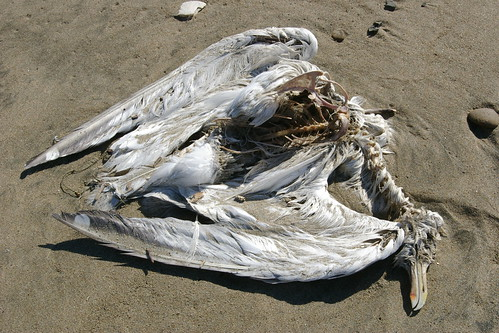animal: (67, 27, 445, 310)
